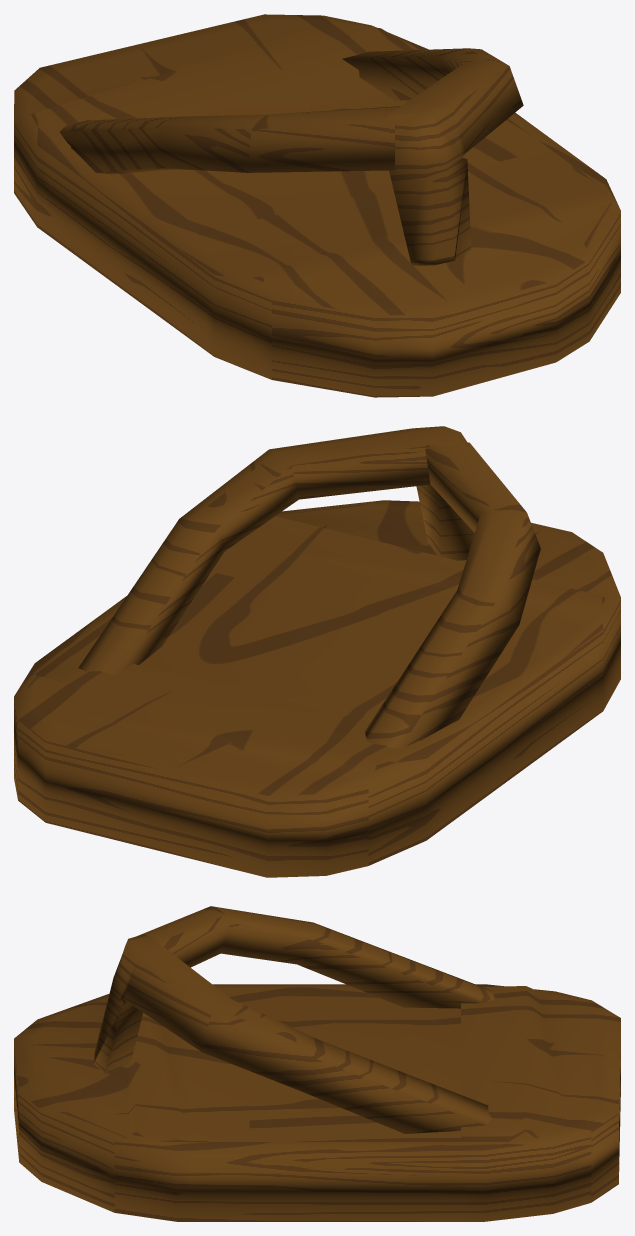
The model's file is sadalha .fbx.
The picture shows the model from 3 angles, top to bottom: view 1: azimuth 30°, elevation 25°; view 2: azimuth 150°, elevation 25°; view 3: azimuth 270°, elevation 25°; orthographic projection. The views are drawn at different scales.
Visible parts, largest first — view 1: SADALHA; view 2: SADALHA; view 3: SADALHA.
Boxes of the visible parts, <box> form: SADALHA: <box>14,14,620,397</box>; SADALHA: <box>14,426,620,877</box>; SADALHA: <box>14,906,620,1221</box>.
Size of the model in its own units: 121 by 65.23 by 187.
Materials: 1 (1 with a texture image).
